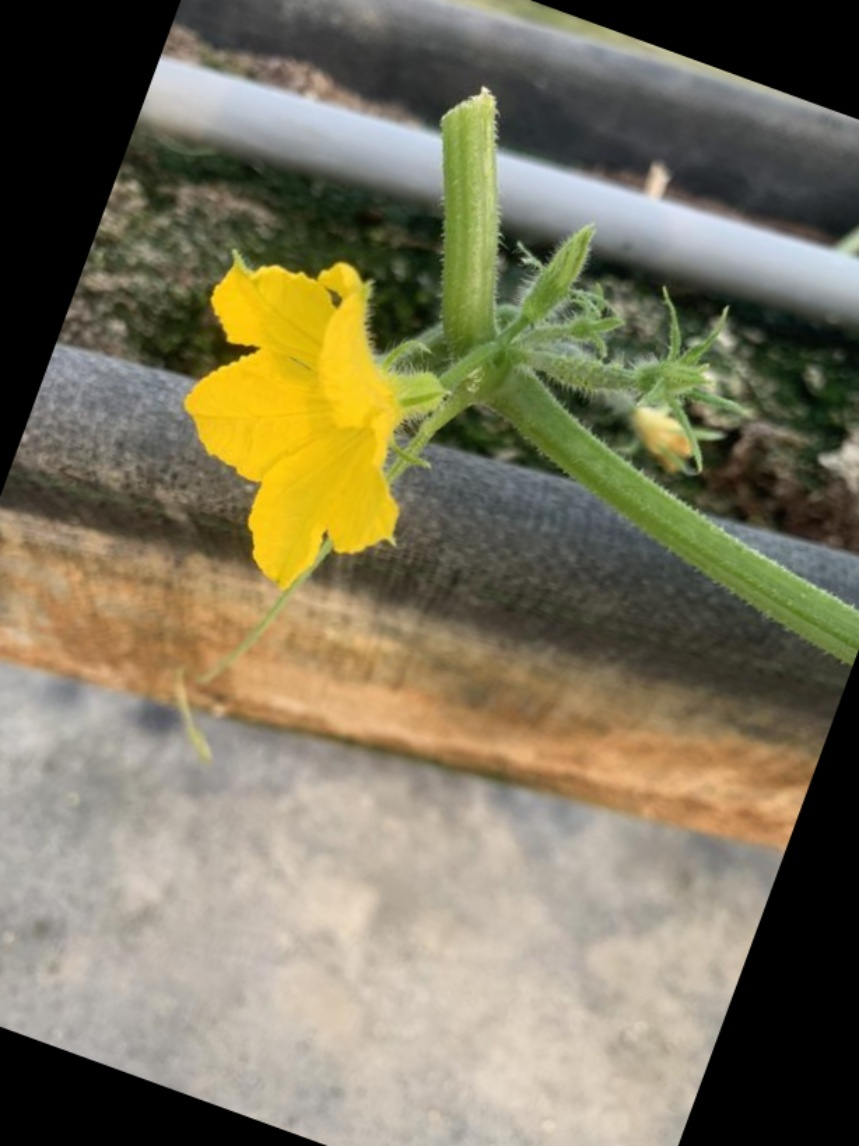mature: (174, 259, 446, 603)
